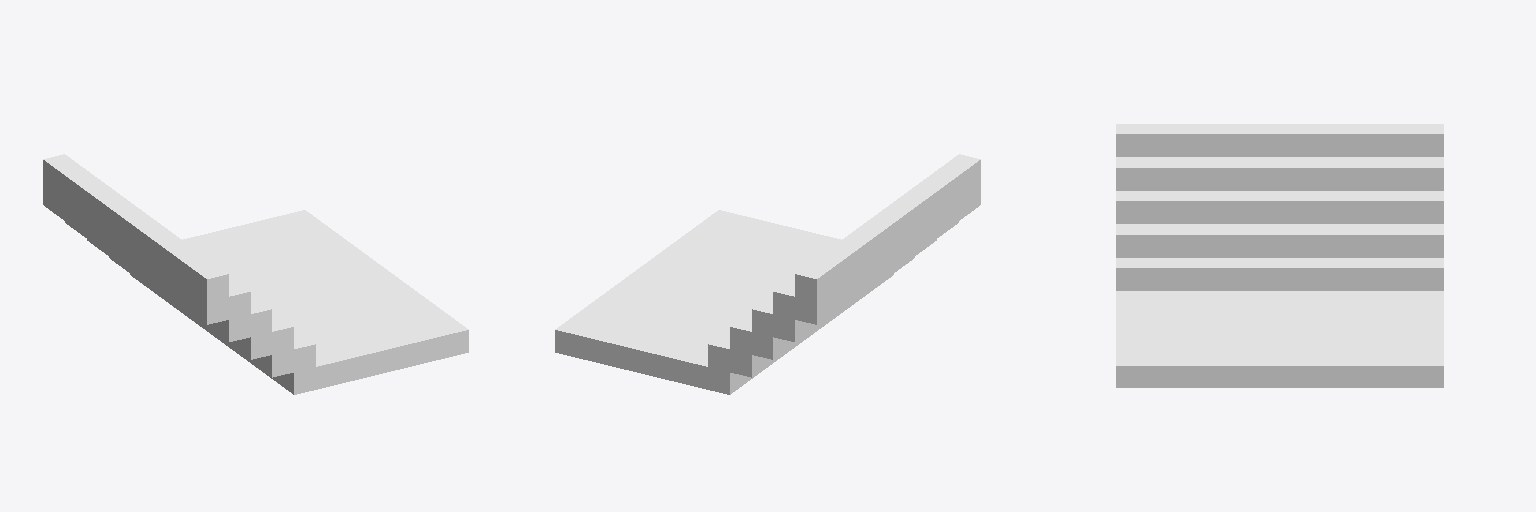
Rendered from Computers-3.obj.
The picture shows the model from 3 angles: view 1: azimuth 30°, elevation 25°; view 2: azimuth 150°, elevation 25°; view 3: azimuth 270°, elevation 25°; orthographic projection.
Parts seen in each view (by area): view 1: Computers-3; view 2: Computers-3; view 3: Computers-3.
Boxes of the visible parts, x1,y1,x2,y2 form: Computers-3: [43, 154, 468, 394]; Computers-3: [555, 154, 980, 394]; Computers-3: [1116, 124, 1443, 387].
Bounding box in the file's own units: 12 × 6 × 13.